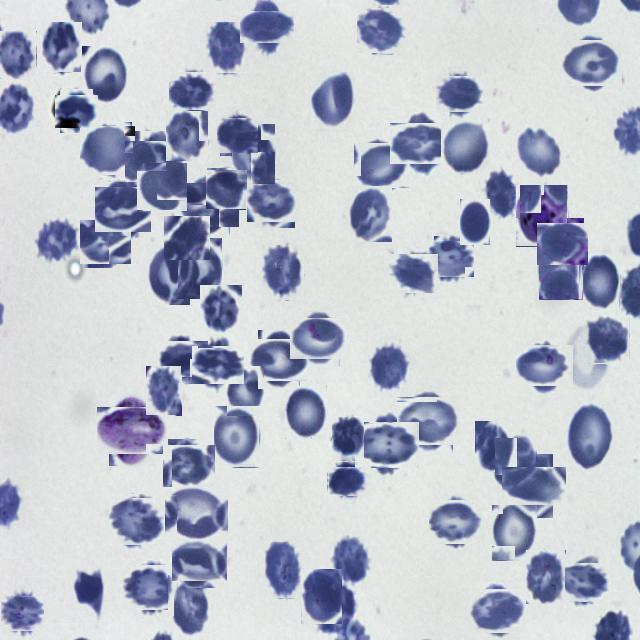red blood cell: (168, 484, 226, 543), (566, 402, 614, 471), (401, 393, 457, 449), (360, 417, 414, 472), (565, 36, 619, 90), (181, 178, 234, 232), (214, 406, 260, 468), (539, 236, 583, 300), (441, 118, 490, 175), (81, 124, 134, 176), (396, 118, 448, 170), (111, 496, 163, 548), (508, 460, 560, 512), (178, 238, 222, 299), (232, 124, 276, 185), (82, 46, 129, 103), (97, 184, 148, 236), (311, 72, 356, 130), (472, 586, 524, 636), (147, 245, 190, 305), (492, 504, 538, 560), (168, 575, 210, 636), (356, 140, 407, 190), (254, 334, 304, 385), (126, 562, 177, 612), (516, 124, 562, 179), (347, 186, 392, 242), (520, 340, 570, 390), (294, 314, 344, 364), (130, 136, 180, 186), (262, 245, 305, 301), (431, 498, 480, 546), (138, 162, 186, 211), (174, 536, 223, 584), (250, 177, 298, 225), (82, 218, 130, 266), (560, 558, 608, 606), (285, 386, 327, 440), (495, 438, 537, 492), (165, 442, 213, 489), (358, 6, 405, 54), (301, 569, 342, 624), (540, 220, 586, 268), (526, 550, 566, 605), (312, 583, 356, 633), (166, 111, 209, 162), (582, 254, 620, 310), (195, 342, 241, 388), (265, 542, 302, 599), (587, 315, 630, 364), (200, 285, 242, 334), (206, 22, 246, 73), (330, 534, 370, 585), (42, 22, 82, 73), (392, 250, 436, 296), (164, 216, 210, 260), (160, 337, 204, 381), (244, 5, 288, 49), (33, 220, 78, 263), (368, 343, 408, 391), (227, 366, 264, 416), (0, 31, 37, 80), (146, 366, 182, 416), (475, 421, 510, 472), (172, 70, 214, 112), (438, 74, 481, 115), (206, 168, 247, 210), (486, 168, 520, 218), (432, 238, 472, 280), (2, 594, 42, 634), (332, 417, 365, 462), (218, 116, 256, 155), (58, 92, 96, 130), (460, 199, 490, 245), (330, 464, 367, 501)
trophozoite: (103, 401, 162, 460), (516, 185, 568, 247)
